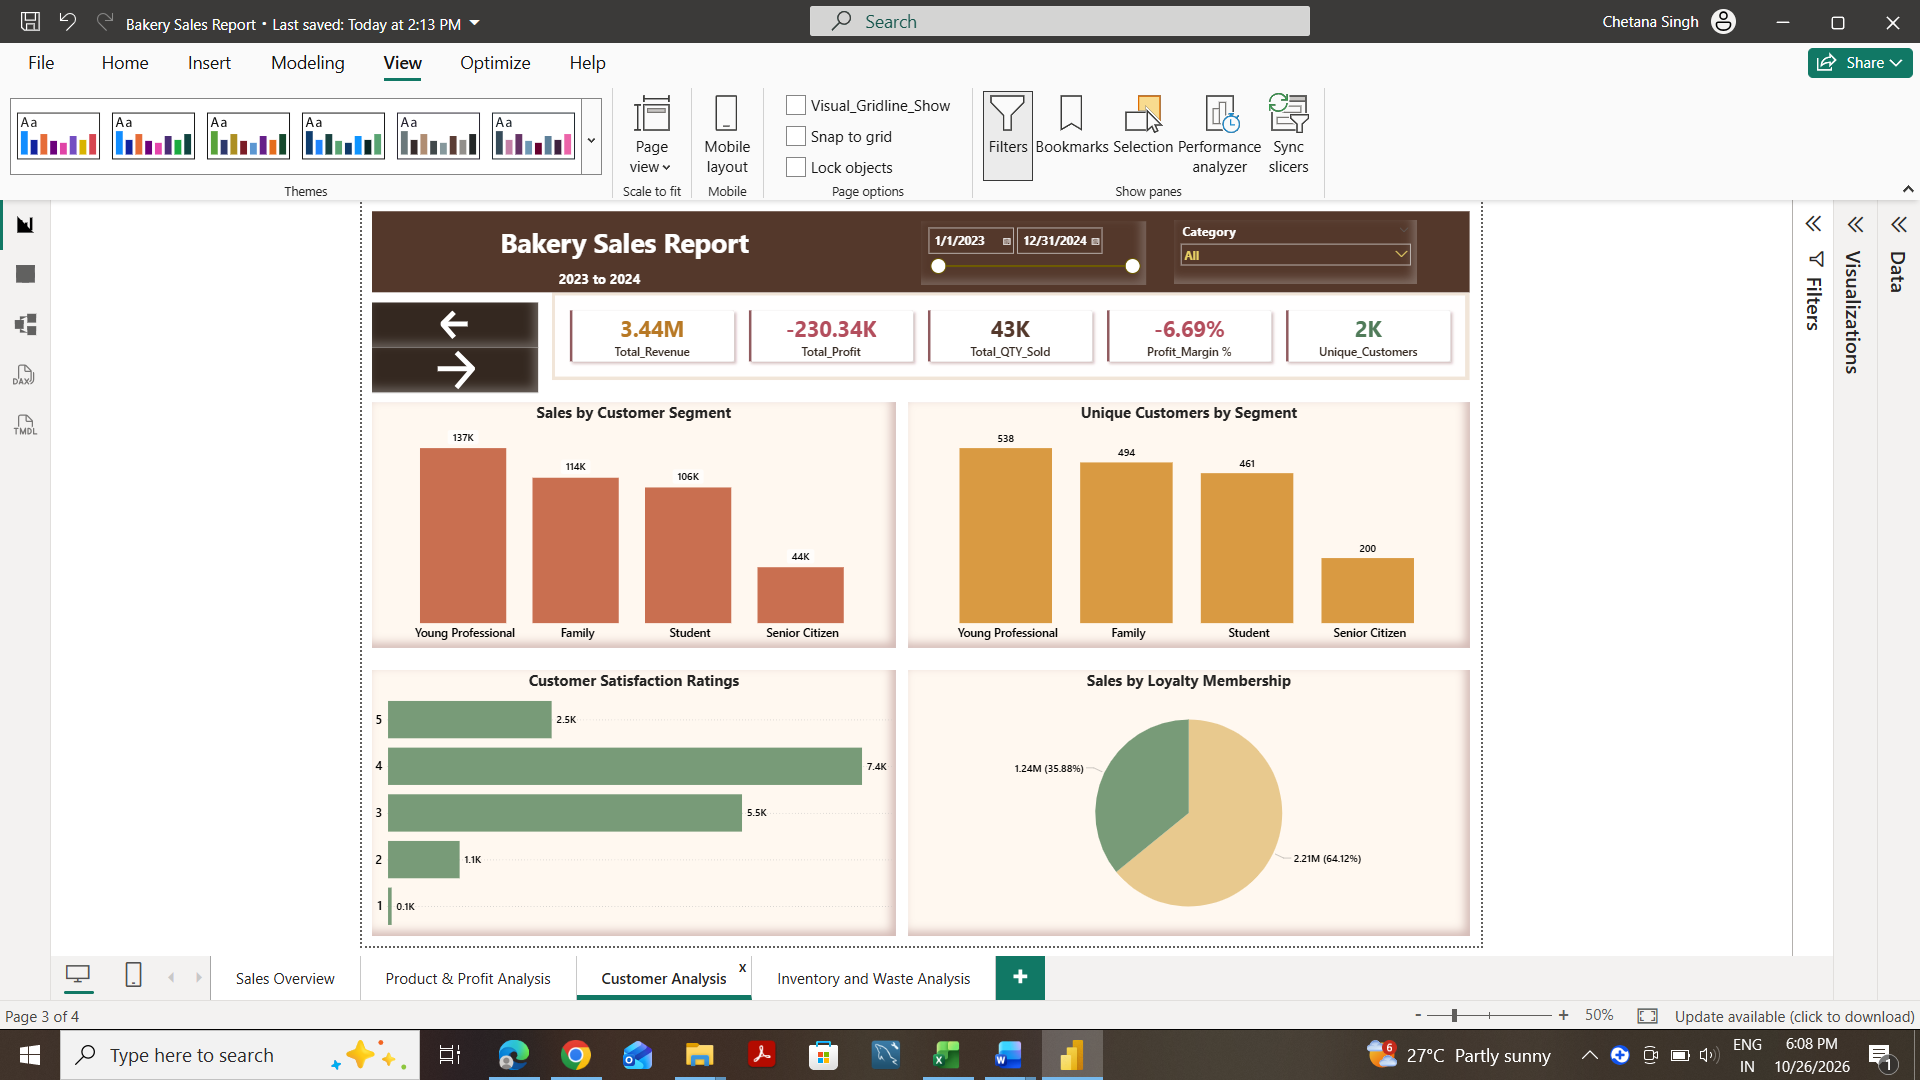

This screenshot's page, from the dashboard's own definition file:
{"tool":"powerbi","page":{"name":"Customer Analysis","canvas":[1800,1200],"ordinal":2},"visuals":[{"type":"cardVisual","fields":{"Data":["bakery_sales bakery_dataset.Total_Revenue","bakery_sales bakery_dataset.Total_Profit","bakery_sales bakery_dataset.Total_QTY_Sold","bakery_sales bakery_dataset.Profit_Margin","bakery_sales bakery_dataset.Unique_Customers"]},"box":[305.6,148.8,1475.9,140.8],"z":0},{"type":"textbox","box":[16.1,18.1,1765.4,130.7],"z":1000},{"type":"textbox","box":[66.4,34.2,711.8,68.4],"z":2000},{"type":"textbox","box":[237.3,106.6,289.5,42.2],"z":3000},{"type":"lineClusteredColumnComboChart","title":"Sales by Customer Segment","fields":{"Category":["bakery_sales bakery_dataset.Customer_Segment"],"Y":["Sum(bakery_sales bakery_dataset.Total_Bill)"]},"box":[16.1,325.7,842.5,394.1],"z":4000},{"type":"barChart","title":"Customer Satisfaction Ratings","fields":{"Category":["bakery_sales bakery_dataset.Customer_Rating"],"Y":["CountNonNull(bakery_sales bakery_dataset.Transaction_ID)"]},"box":[16.1,756,842.5,428.3],"z":5000},{"type":"textbox","box":[16.1,164.9,267.4,146.8],"z":6000},{"type":"pieChart","title":"Sales by Loyalty Membership","fields":{"Category":["bakery_sales bakery_dataset.Member Type"],"Y":["Sum(bakery_sales bakery_dataset.Total_Bill)"]},"box":[878.7,756,902.8,428.3],"z":7000},{"type":"columnChart","title":"Unique Customers by  Segment","fields":{"Category":["bakery_sales bakery_dataset.Customer_Segment"],"Y":["bakery_sales bakery_dataset.Unique_Customers"]},"box":[878.7,325.7,902.8,394.1],"z":8000},{"type":"slicer","fields":{"Values":["bakery_sales bakery_dataset.Date"]},"box":[898.8,34.2,361.9,102.5],"z":9000},{"type":"slicer","fields":{"Values":["bakery_sales bakery_dataset.Category"]},"box":[1307,32.2,390.1,102.5],"z":10000},{"type":"actionButton","box":[16.1,164.9,267.4,72.4],"z":11000},{"type":"actionButton","box":[16.1,237.3,267.4,72.4],"z":12000}]}

Visuals, with their boxes on the page's 1800x1200 design canvas (x1, y1, x2, y2). These are canvas units, not pixel positions in the 1920x1080 screenshot, which may show the page scaled, cropped or inside an application window:
cardVisual - bakery_sales bakery_dataset.Total_Revenue x bakery_sales bakery_dataset.Total_Profit: box(306, 149, 1782, 290)
textbox: box(16, 18, 1782, 149)
textbox: box(66, 34, 778, 103)
textbox: box(237, 107, 527, 149)
"Sales by Customer Segment" lineClusteredColumnComboChart: box(16, 326, 859, 720)
"Customer Satisfaction Ratings" barChart: box(16, 756, 859, 1184)
textbox: box(16, 165, 284, 312)
"Sales by Loyalty Membership" pieChart: box(879, 756, 1782, 1184)
"Unique Customers by  Segment" columnChart: box(879, 326, 1782, 720)
slicer - bakery_sales bakery_dataset.Date: box(899, 34, 1261, 137)
slicer - bakery_sales bakery_dataset.Category: box(1307, 32, 1697, 135)
actionButton: box(16, 165, 284, 237)
actionButton: box(16, 237, 284, 310)
